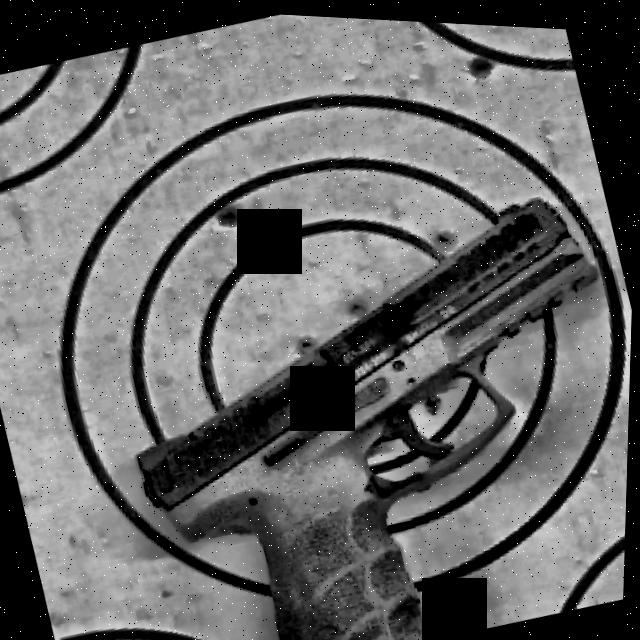Heckler - Koch -H-K-: (44, 138, 637, 640)
